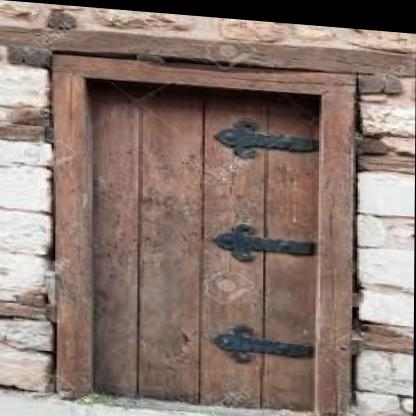door: (62, 57, 333, 412)
